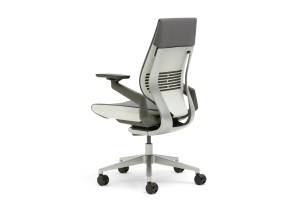chairs: (91, 18, 210, 195)
